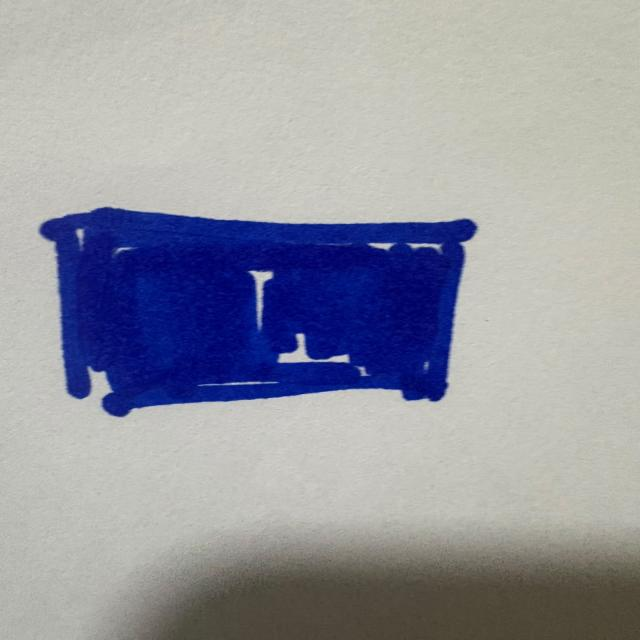Rectangle: (41, 208, 476, 416)
